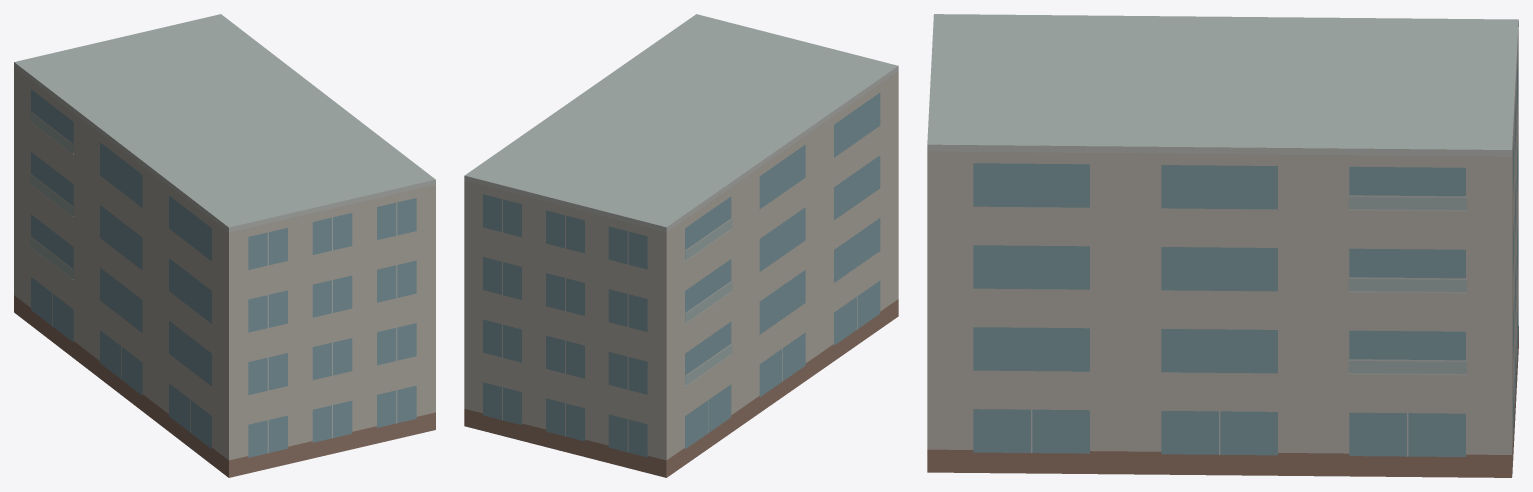
The model's file is residential-586209bc-f945-43a1-a4b8-3be6a58b2f80.glb.
The picture shows the model from 3 angles, left to right: view 1: azimuth 30°, elevation 25°; view 2: azimuth 150°, elevation 25°; view 3: azimuth 270°, elevation 25°; orthographic projection. The views are drawn at different scales.
Visible parts, largest first — view 1: residential-586209bc-f945-43a1-a4b8-3be6a58b2f80.tmp; view 2: residential-586209bc-f945-43a1-a4b8-3be6a58b2f80.tmp; view 3: residential-586209bc-f945-43a1-a4b8-3be6a58b2f80.tmp.
Part boxes in pixels (x1=…): residential-586209bc-f945-43a1-a4b8-3be6a58b2f80.tmp: x1=14, y1=14, x2=435, y2=477; residential-586209bc-f945-43a1-a4b8-3be6a58b2f80.tmp: x1=464, y1=14, x2=898, y2=477; residential-586209bc-f945-43a1-a4b8-3be6a58b2f80.tmp: x1=927, y1=14, x2=1518, y2=477.
Size of the model in its own units: 10.87 by 12.2 by 19.96.
